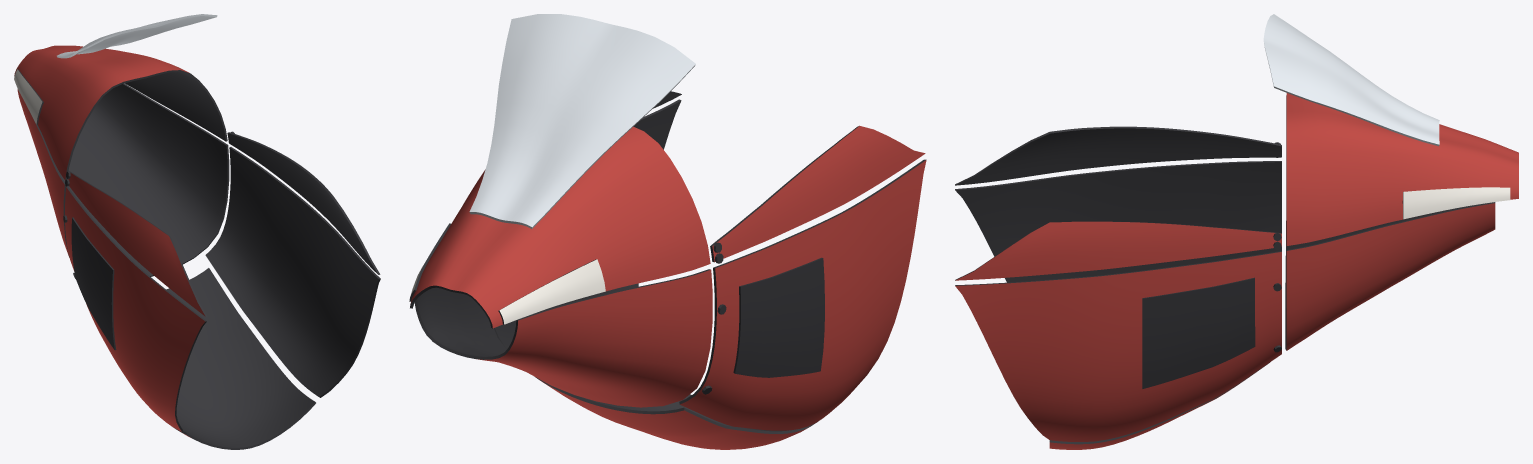
The model's file is sport.glb.
3 renders of one model, left to right at view 1: azimuth 30°, elevation 25°; view 2: azimuth 150°, elevation 25°; view 3: azimuth 270°, elevation 25°, orthographic. The views are drawn at different scales.
Parts seen in each view (by area): view 1: lod0; view 2: lod0; view 3: lod0.
Boxes of the visible parts, x1,y1,x2,y2 form: lod0: [14, 14, 380, 449]; lod0: [409, 14, 926, 449]; lod0: [955, 14, 1518, 449].
Size of what is drawn, in the model's own units: 0.4344 by 0.7478 by 0.952.
